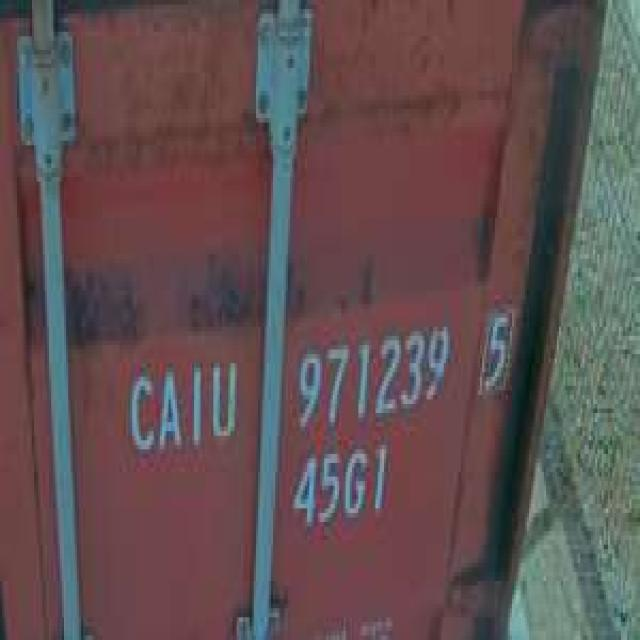dv: (476, 298, 523, 402)
owner: (120, 347, 247, 461)
serial: (288, 304, 455, 432)
size: (287, 434, 394, 540)
